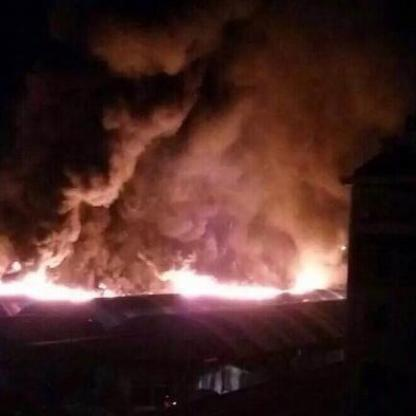fire: (1, 260, 331, 307)
smoke: (12, 10, 340, 258)
